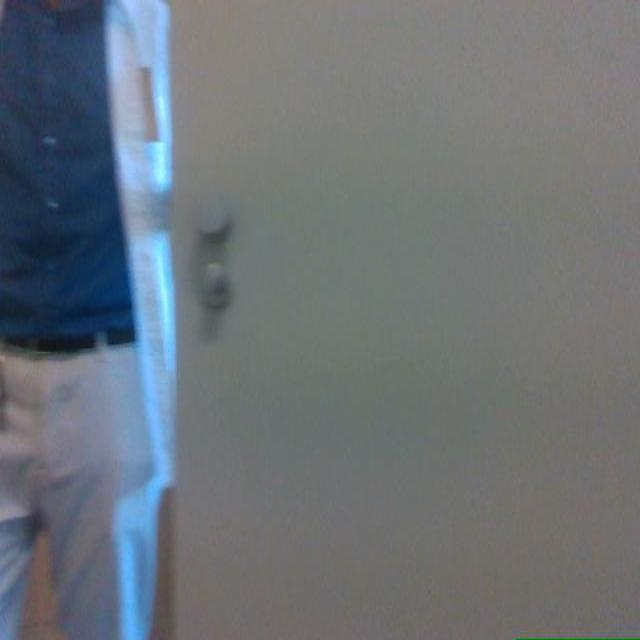humans: (0, 0, 174, 639)
objects: (170, 0, 639, 639)
